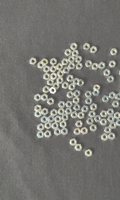nut: (85, 149, 93, 158), (70, 139, 78, 147), (37, 131, 45, 139), (61, 128, 69, 136), (54, 128, 62, 136), (78, 112, 86, 120), (58, 108, 66, 116), (41, 108, 49, 116), (47, 98, 55, 106), (41, 94, 49, 102), (85, 60, 93, 68), (43, 73, 51, 81), (50, 58, 58, 66), (75, 145, 83, 152), (109, 133, 116, 141), (102, 134, 109, 142), (44, 131, 52, 138), (90, 125, 98, 132), (81, 128, 89, 135), (74, 128, 81, 136), (76, 121, 84, 128), (110, 122, 117, 130), (60, 121, 67, 129), (45, 122, 52, 130), (87, 118, 95, 125), (100, 119, 108, 126), (108, 116, 116, 123), (107, 109, 115, 116), (89, 111, 97, 118), (71, 112, 79, 119), (48, 115, 55, 123), (41, 116, 48, 124), (65, 108, 73, 115), (51, 109, 58, 117), (58, 101, 66, 108), (112, 101, 120, 108), (85, 91, 93, 98), (110, 92, 117, 100), (74, 90, 81, 98), (67, 91, 74, 99), (34, 94, 41, 102), (43, 86, 50, 94), (47, 79, 55, 86), (62, 82, 69, 90), (67, 75, 75, 82), (107, 76, 115, 83), (104, 69, 111, 77), (109, 61, 117, 68), (99, 62, 106, 70), (92, 63, 99, 71), (91, 46, 98, 54), (84, 43, 91, 51), (76, 63, 84, 70), (63, 67, 71, 74), (68, 63, 76, 70), (43, 66, 51, 73), (41, 59, 49, 66), (50, 65, 57, 73), (56, 63, 64, 70), (68, 56, 76, 63), (72, 50, 80, 57), (105, 127, 112, 134), (52, 123, 59, 130), (38, 124, 45, 131), (95, 116, 102, 123), (101, 111, 108, 118), (62, 114, 69, 121), (55, 116, 62, 123), (35, 105, 42, 112), (82, 106, 89, 113), (74, 104, 81, 111), (66, 101, 73, 108), (91, 104, 98, 111), (86, 98, 93, 105), (94, 85, 101, 92), (103, 96, 110, 103), (73, 97, 80, 104), (50, 87, 57, 94), (53, 83, 60, 90), (69, 84, 76, 91), (78, 80, 85, 87), (73, 78, 80, 85), (57, 77, 64, 84), (111, 49, 118, 56), (76, 56, 83, 63), (51, 73, 58, 80), (30, 58, 37, 65), (38, 62, 45, 69), (62, 59, 69, 66), (65, 49, 72, 56), (71, 43, 78, 50), (57, 71, 65, 77), (35, 112, 42, 118), (115, 112, 120, 120), (93, 91, 101, 96), (116, 93, 120, 101), (116, 120, 120, 127)
